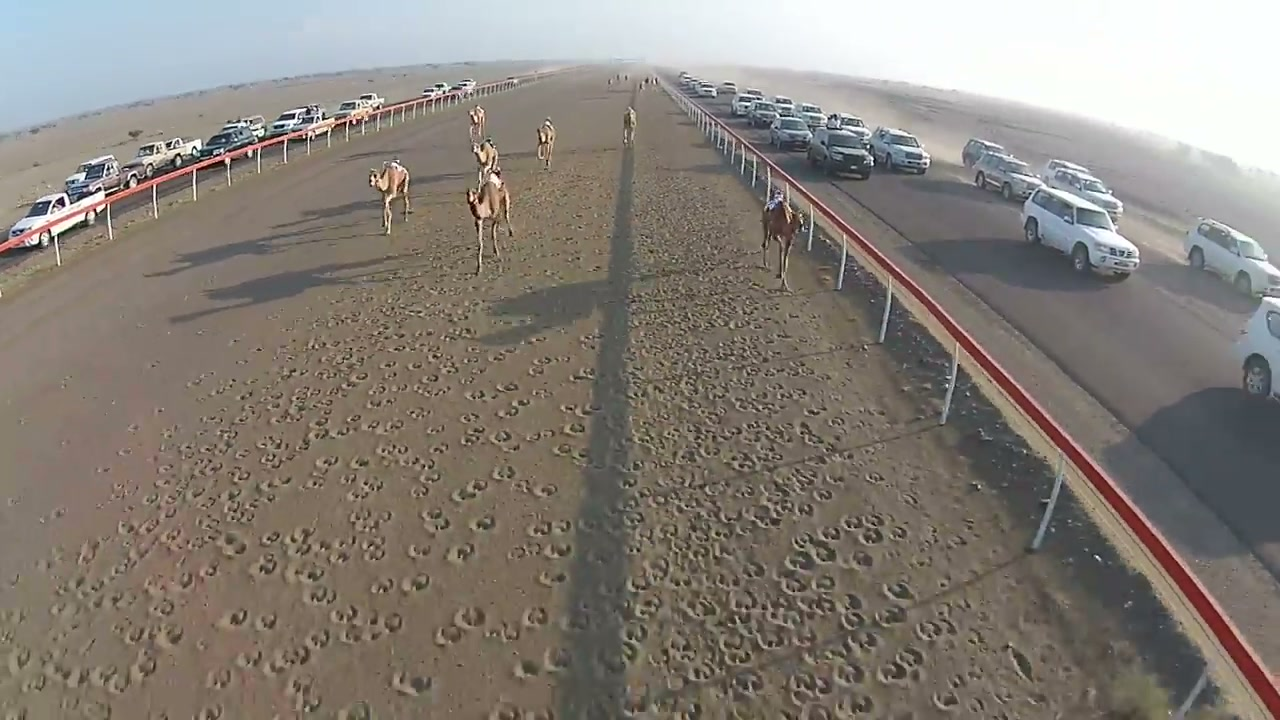animal_foot_print: (0, 96, 1123, 719), (556, 228, 1086, 717), (10, 297, 590, 716), (391, 670, 433, 697)
